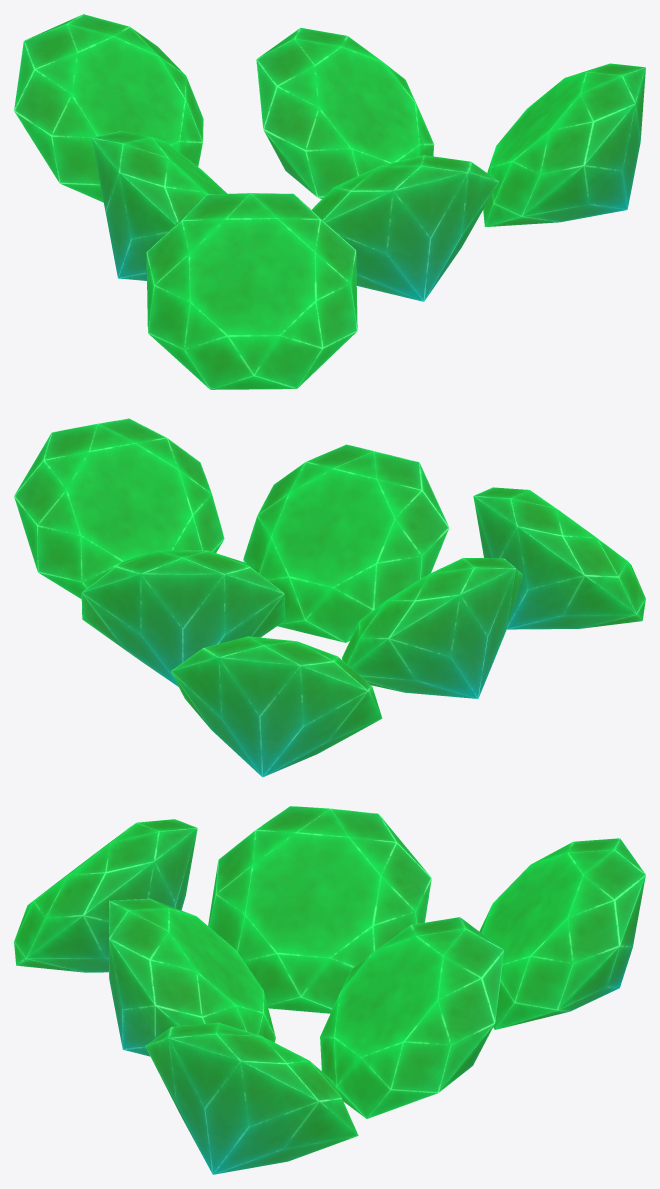
The model's file is grupoJoias.glb.
The picture shows the model from 3 angles, top to bottom: view 1: azimuth 30°, elevation 25°; view 2: azimuth 150°, elevation 25°; view 3: azimuth 270°, elevation 25°; orthographic projection. The views are drawn at different scales.
Parts seen in each view (by area): view 1: Object_7.004; view 2: Object_7.004; view 3: Object_7.004.
Boxes of the visible parts, box(x1,y1,x2,y2) form: Object_7.004: box(14, 14, 645, 389); Object_7.004: box(14, 418, 645, 777); Object_7.004: box(14, 806, 645, 1174).
Size of the model in its own units: 10.22 by 2.52 by 9.75.
Materials: 6 (6 with a texture image).
